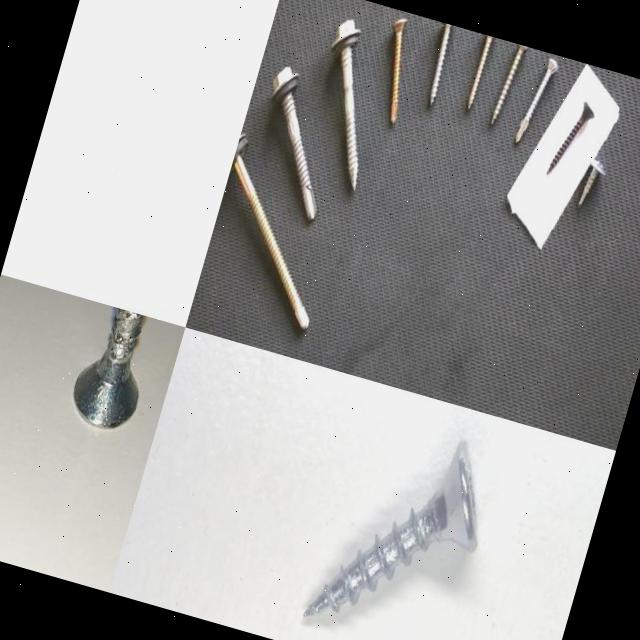Screw: (304, 439, 477, 615), (229, 133, 308, 329), (74, 308, 144, 427), (272, 66, 316, 220), (331, 18, 360, 189), (547, 100, 595, 174), (491, 44, 528, 124), (522, 57, 558, 127), (467, 35, 493, 109), (429, 23, 452, 104), (390, 17, 407, 124), (579, 158, 606, 205), (515, 125, 524, 142)
